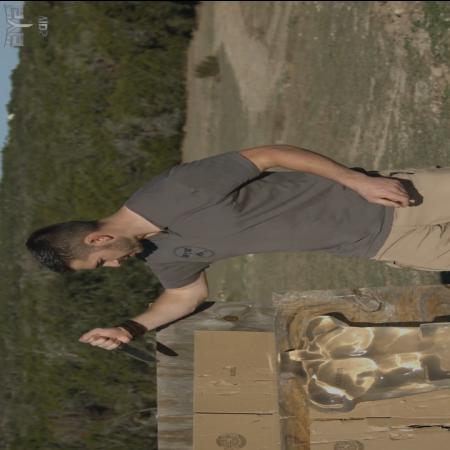long weapon: (77, 326, 165, 364)
